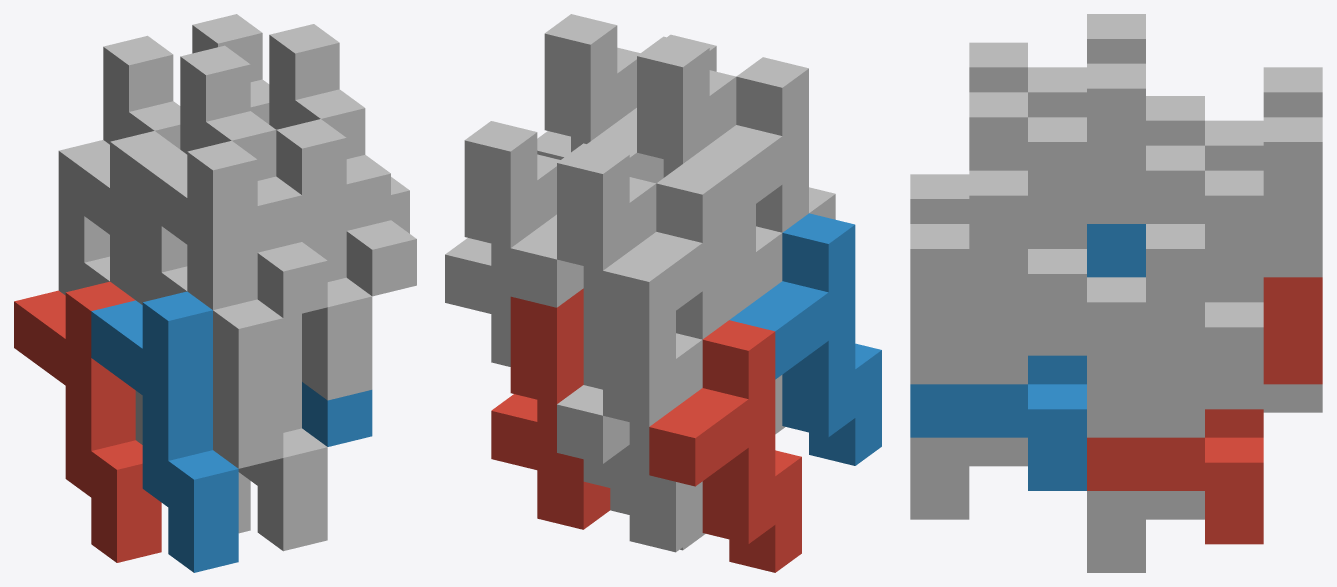
File: tiling.obj
The picture shows the model from 3 angles, left to right: view 1: azimuth 30°, elevation 25°; view 2: azimuth 150°, elevation 25°; view 3: azimuth 270°, elevation 25°; orthographic projection. The views are drawn at different scales.
Parts seen in each view (by area): view 1: copy_1_domain_4, copy_1_domain_2, copy_1_domain_1, copy_1_domain_8, copy_2_domain_8, copy_2_domain_4, copy_1_domain_6, copy_1_domain_3, copy_2_domain_2, copy_2_domain_3, copy_2_domain_1, copy_2_domain_6 (+2 smaller); view 2: copy_1_domain_1, copy_1_domain_2, copy_2_domain_1, copy_1_domain_3, copy_2_domain_5, copy_2_domain_7, copy_1_domain_4, copy_2_domain_3, copy_2_domain_8, copy_2_domain_4, copy_2_domain_2, copy_1_domain_7 (+2 smaller); view 3: copy_2_domain_7, copy_2_domain_8, copy_2_domain_5, copy_1_domain_7, copy_1_domain_8, copy_2_domain_6, copy_1_domain_5, copy_1_domain_6, copy_2_domain_4, copy_2_domain_3, copy_1_domain_4, copy_1_domain_3.
Boxes of the visible parts, <box> form: copy_1_domain_4: <box>135,140,301,421</box>; copy_1_domain_2: <box>91,291,238,572</box>; copy_1_domain_1: <box>14,281,161,562</box>; copy_1_domain_8: <box>276,119,390,400</box>; copy_2_domain_8: <box>269,24,416,296</box>; copy_2_domain_4: <box>180,45,327,317</box>; copy_1_domain_6: <box>238,313,327,551</box>; copy_1_domain_3: <box>58,131,179,398</box>; copy_2_domain_2: <box>135,207,283,468</box>; copy_2_domain_3: <box>103,35,180,149</box>; copy_2_domain_1: <box>58,197,142,444</box>; copy_2_domain_6: <box>302,382,372,446</box>; copy_1_domain_1: <box>649,320,801,572</box>; copy_1_domain_2: <box>729,213,881,465</box>; copy_2_domain_1: <box>583,311,702,552</box>; copy_1_domain_3: <box>603,164,729,339</box>; copy_2_domain_5: <box>491,288,610,529</box>; copy_2_domain_7: <box>445,121,560,366</box>; copy_1_domain_4: <box>683,57,835,232</box>; copy_2_domain_3: <box>557,143,656,389</box>; copy_2_domain_8: <box>537,14,640,159</box>; copy_2_domain_4: <box>637,36,736,177</box>; copy_2_domain_2: <box>729,204,782,430</box>; copy_1_domain_7: <box>510,141,636,307</box>; copy_2_domain_7: <box>1087,117,1322,409</box>; copy_2_domain_8: <box>910,63,1145,355</box>; copy_2_domain_5: <box>1087,277,1322,544</box>; copy_1_domain_7: <box>1087,145,1322,437</box>; copy_1_domain_8: <box>910,92,1145,384</box>; copy_2_domain_6: <box>910,224,1145,490</box>; copy_1_domain_5: <box>1087,384,1322,572</box>; copy_1_domain_6: <box>910,331,1027,519</box>; copy_2_domain_4: <box>910,14,1145,223</box>; copy_2_domain_3: <box>1205,67,1322,170</box>; copy_1_domain_4: <box>969,42,1027,92</box>; copy_1_domain_3: <box>1146,96,1204,145</box>.
Size of the model in its own units: 6 by 10 by 7.
